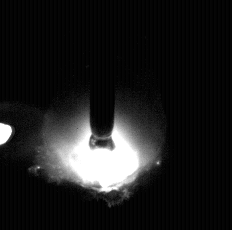arame: (90, 0, 115, 149)
poca: (39, 0, 165, 230)
